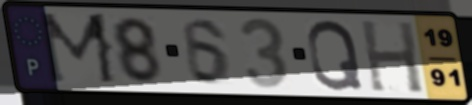3: (238, 16, 294, 92)
6: (179, 17, 235, 87)
8: (108, 15, 166, 86)
H: (358, 17, 427, 95)
M: (37, 11, 121, 87)
Q: (304, 18, 366, 92)
